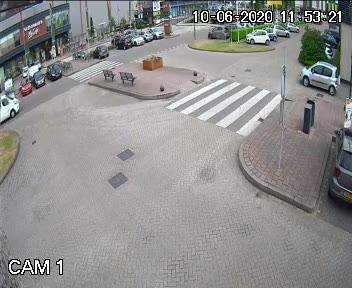car: (292, 56, 339, 97), (0, 88, 29, 123)
